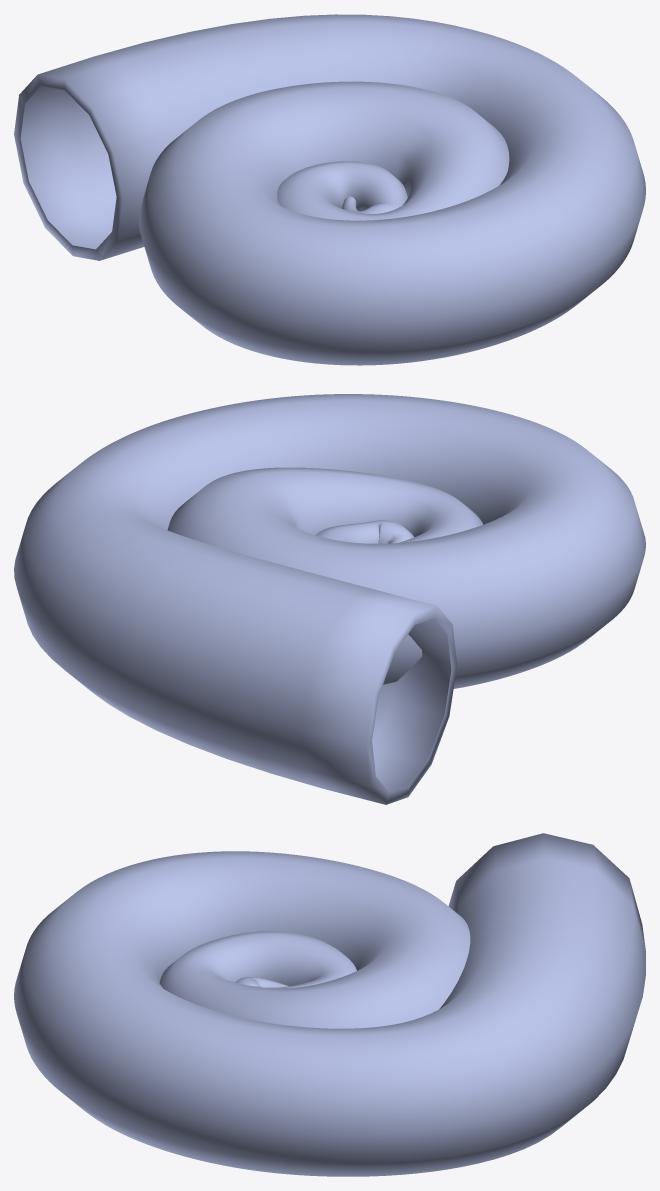
Rendered from shell2 1.fbx.
3 renders of one model, top to bottom at view 1: azimuth 30°, elevation 25°; view 2: azimuth 150°, elevation 25°; view 3: azimuth 270°, elevation 25°, orthographic. The views are drawn at different scales.
Parts seen in each view (by area): view 1: shell2; view 2: shell2; view 3: shell2.
Boxes of the visible parts, x1=… form: shell2: x1=14, y1=14, x2=645, y2=365; shell2: x1=14, y1=394, x2=645, y2=804; shell2: x1=14, y1=833, x2=645, y2=1176.
Size of the model in its own units: 46.13 by 16.65 by 51.26.
